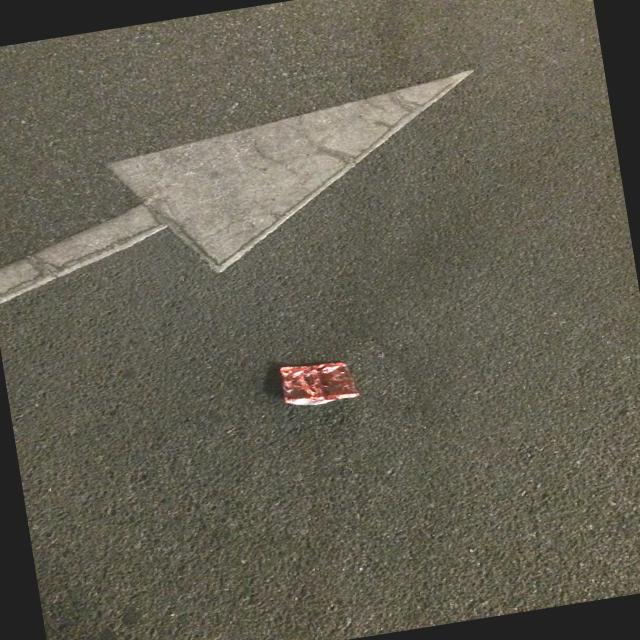Trash: (274, 352, 367, 416)
